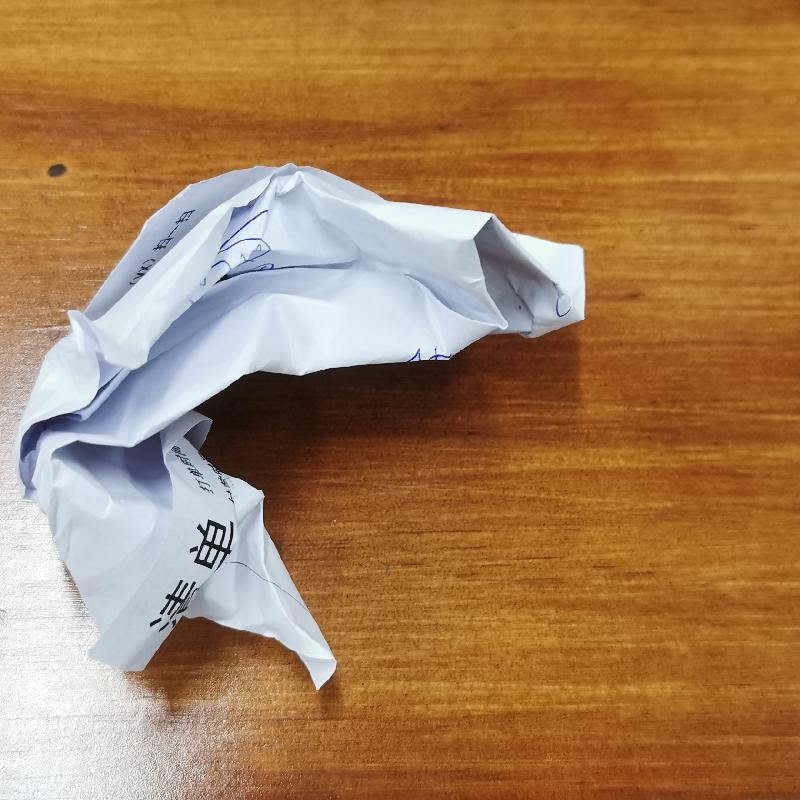spitball: (21, 159, 598, 702)
